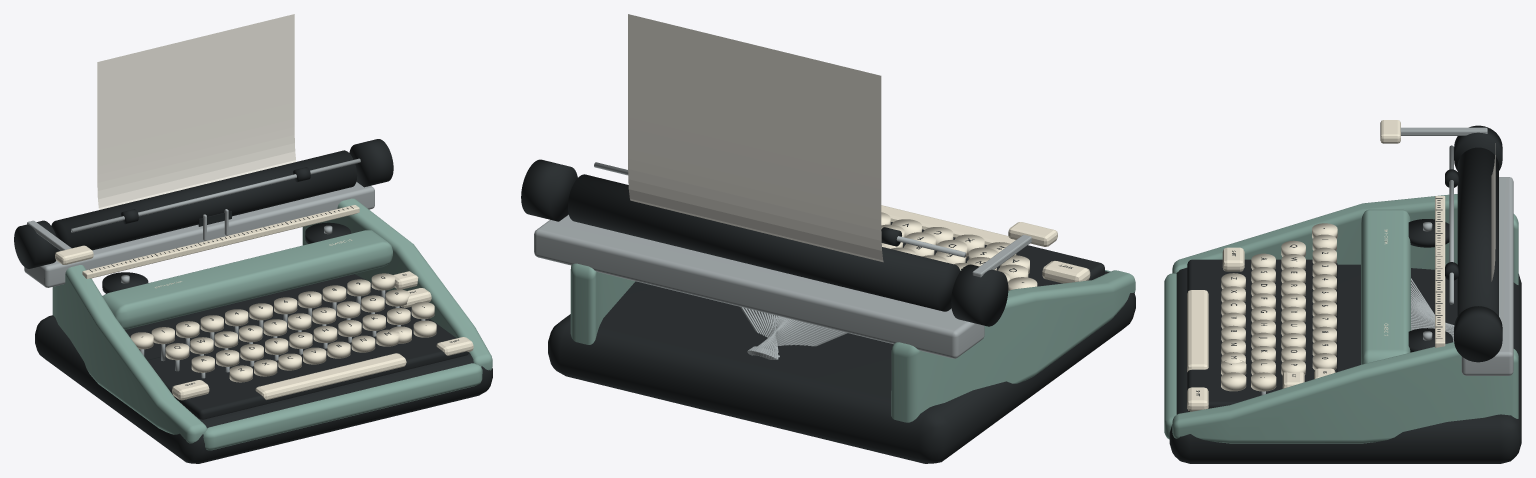
The model's file is classic12.glb.
3 views of the same model, side by side, from view 1: azimuth 30°, elevation 25°; view 2: azimuth 150°, elevation 25°; view 3: azimuth 270°, elevation 25° (orthographic). The views are drawn at different scales.
Visible parts, largest first — view 1: Paper, Chassis, Ribbon_Hood, Platen, Shell_Left, Keyboard_Bed, Front_Lip, Carriage_Base, Shell_Right, Ruler, Cap_Space, Platen_Knob_Right (+7 smaller); view 2: Paper, Chassis, Carriage_Base, Platen, Shell_Left, Shell_Right, Platen_Knob_Left, Platen_Knob_Right, Keyboard_Bed, Cap_Space, Cap_ShiftLeft, ReturnHandle (+2 smaller); view 3: Shell_Right, Chassis, Ribbon_Hood, Keyboard_Bed, Shell_Left, Platen, Carriage_Base, Platen_Knob_Right, Front_Lip, Cap_Space, Ruler, Platen_Knob_Left (+11 smaller).
Boxes of the visible parts, <box> form: Paper: <box>97,14,296,209</box>; Chassis: <box>35,274,492,463</box>; Ribbon_Hood: <box>102,230,392,329</box>; Platen: <box>51,150,357,251</box>; Shell_Left: <box>52,265,207,443</box>; Keyboard_Bed: <box>147,302,468,419</box>; Front_Lip: <box>203,363,482,450</box>; Carriage_Base: <box>24,182,374,287</box>; Shell_Right: <box>302,198,492,370</box>; Ruler: <box>82,205,359,278</box>; Cap_Space: <box>255,353,406,399</box>; Platen_Knob_Right: <box>349,139,393,187</box>; Paper: <box>628,14,883,262</box>; Chassis: <box>548,271,1135,463</box>; Carriage_Base: <box>534,214,984,358</box>; Platen: <box>568,174,960,311</box>; Shell_Left: <box>891,270,1135,422</box>; Shell_Right: <box>570,263,635,344</box>; Platen_Knob_Left: <box>951,264,1008,326</box>; Platen_Knob_Right: <box>521,159,577,221</box>; Keyboard_Bed: <box>890,222,1104,286</box>; Cap_Space: <box>881,205,1015,245</box>; Cap_ShiftLeft: <box>1042,261,1090,283</box>; ReturnHandle: <box>1008,222,1057,246</box>; Shell_Right: <box>1172,342,1518,443</box>; Chassis: <box>1169,264,1521,463</box>; Ribbon_Hood: <box>1361,209,1410,364</box>; Keyboard_Bed: <box>1187,259,1337,411</box>; Shell_Left: <box>1172,194,1518,284</box>; Platen: <box>1457,147,1498,315</box>; Carriage_Base: <box>1461,177,1513,375</box>; Platen_Knob_Right: <box>1454,306,1502,362</box>; Front_Lip: <box>1164,273,1176,439</box>; Cap_Space: <box>1187,290,1208,371</box>; Ruler: <box>1435,196,1445,347</box>; Platen_Knob_Left: <box>1454,125,1502,170</box>.
Bounding box in the file's own units: 0.402 × 0.3055 × 0.3095.
